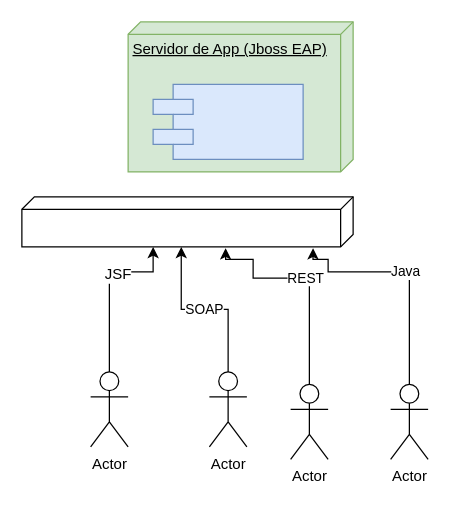
Image size: 450x508. Some labels were removed from this diagram. The shapes that lost their labels are listed below. From the top down, each one's centre as x and y in pixels, then its label:
At (x=227, y=121): "App Clientes".
At (x=187, y=221): "Balanceador".
